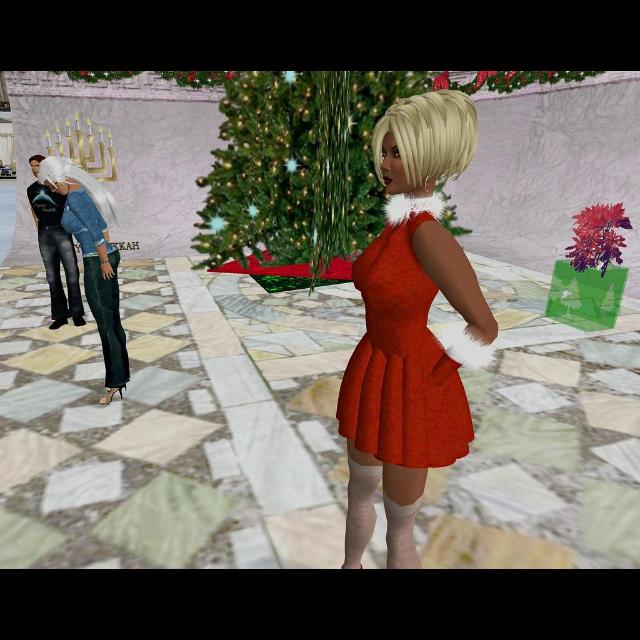Flower: (557, 200, 633, 280), (474, 71, 520, 87), (162, 71, 198, 79), (433, 72, 449, 90), (226, 72, 232, 82)
